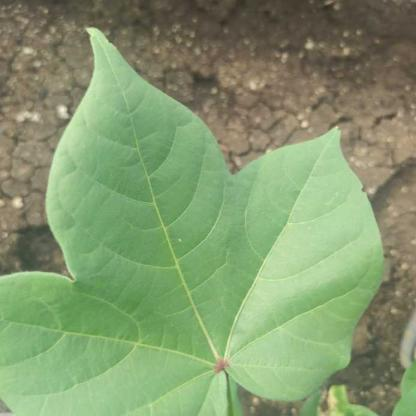cotton: (51, 17, 386, 405)
